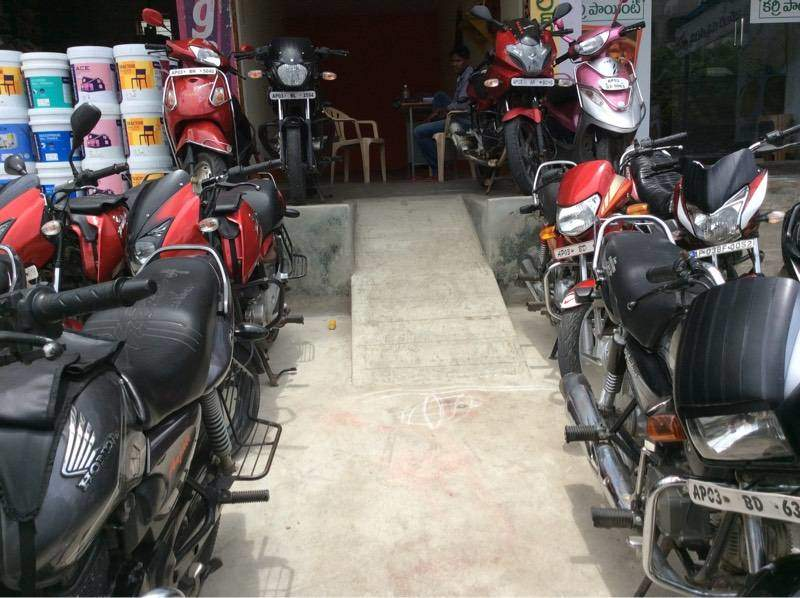Bike: (515, 170, 631, 403), (467, 10, 564, 183), (244, 45, 348, 202), (149, 36, 250, 178), (563, 32, 662, 159)
